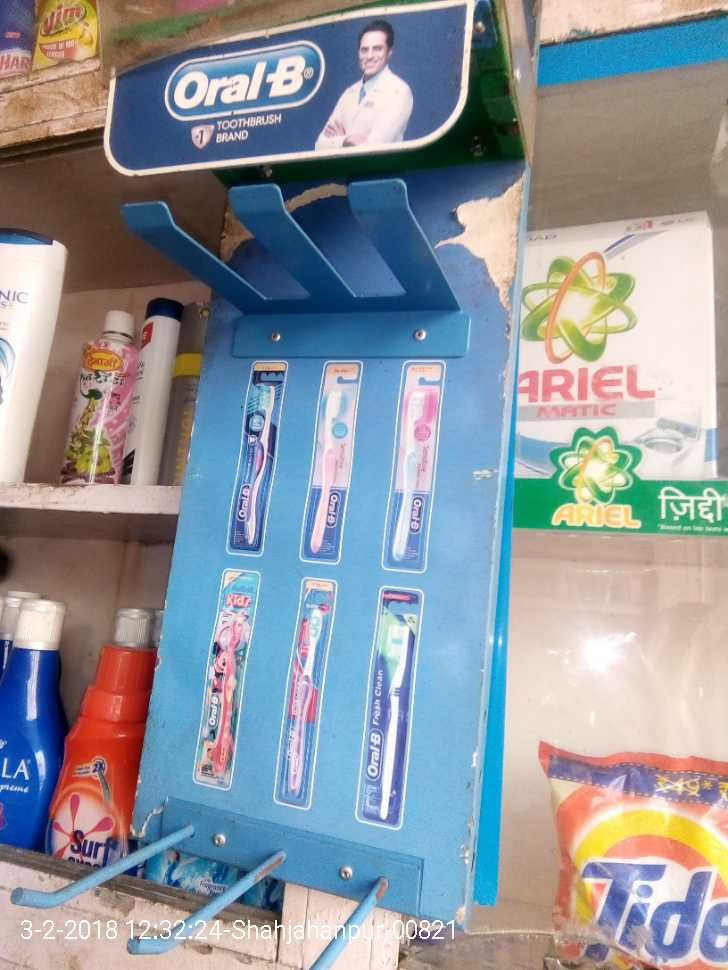home: (513, 198, 718, 495), (524, 740, 728, 964)
